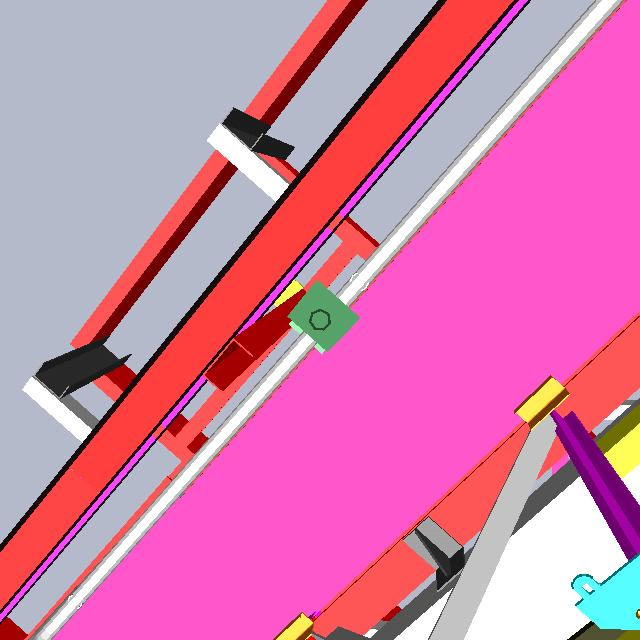Poste: (301, 301, 338, 339)
Soporte: (200, 273, 313, 405)
